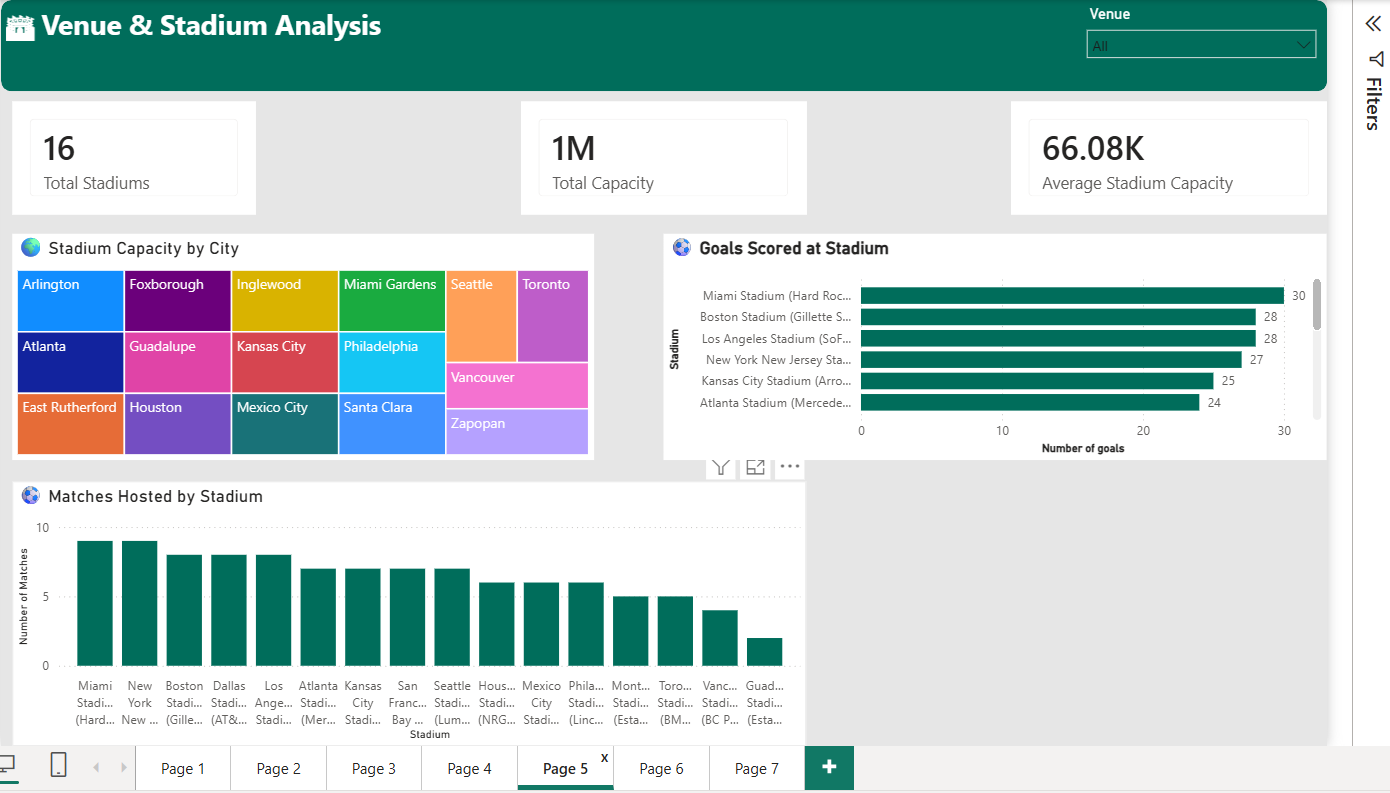

What the dashboard file says about the page in this screenshot:
{"tool":"powerbi","page":{"name":"Page 5","canvas":[1280,720],"ordinal":4},"visuals":[{"type":"shape","box":[0,0,1280,88.2],"z":0},{"type":"treemap","title":"🌍 Stadium Capacity by City","fields":{"Group":["venues.city"],"Values":["CountNonNull(venues.capacity)"]},"box":[11.2,225.5,561.6,218.5],"z":1000},{"type":"cardVisual","fields":{"Data":["Count(venues.venue_id)"]},"box":[11.2,98,235.3,109.2],"z":2000},{"type":"cardVisual","fields":{"Data":["Sum(venues.capacity)"]},"box":[501.4,98,275.9,109.2],"z":3000},{"type":"clusteredColumnChart","title":"⚽ Matches Hosted by Stadium","fields":{"Category":["venues.stadium_name"],"Y":["CountNonNull(matches.match_id)"]},"box":[11.2,464.9,766,254.9],"z":4000},{"type":"clusteredBarChart","title":"⚽ Goals Scored at Stadium","fields":{"Category":["venues.stadium_name"],"Y":["matches.Total Team Goals"]},"box":[640,225.5,640,218.5],"z":5000},{"type":"textbox","box":[0,0,491.6,98],"z":6000},{"type":"slicer","fields":{"Values":["venues.city"]},"box":[1037.7,0,242.3,98],"z":7000},{"type":"cardVisual","fields":{"Data":["venues.Average Stadium Capacity"]},"box":[974.7,98,305.3,109.2],"z":8000}]}

Visuals, with their boxes on the page's 1280x720 design canvas (x1, y1, x2, y2). These are canvas units, not pixel positions in the 1390x793 screenshot, which may show the page scaled, cropped or inside an application window:
shape: x1=0, y1=0, x2=1280, y2=88
"🌍 Stadium Capacity by City" treemap: x1=11, y1=226, x2=573, y2=444
cardVisual - Count(venues.venue_id): x1=11, y1=98, x2=246, y2=207
cardVisual - Sum(venues.capacity): x1=501, y1=98, x2=777, y2=207
"⚽ Matches Hosted by Stadium" clusteredColumnChart: x1=11, y1=465, x2=777, y2=720
"⚽ Goals Scored at Stadium" clusteredBarChart: x1=640, y1=226, x2=1280, y2=444
textbox: x1=0, y1=0, x2=492, y2=98
slicer - venues.city: x1=1038, y1=0, x2=1280, y2=98
cardVisual - venues.Average Stadium Capacity: x1=975, y1=98, x2=1280, y2=207
